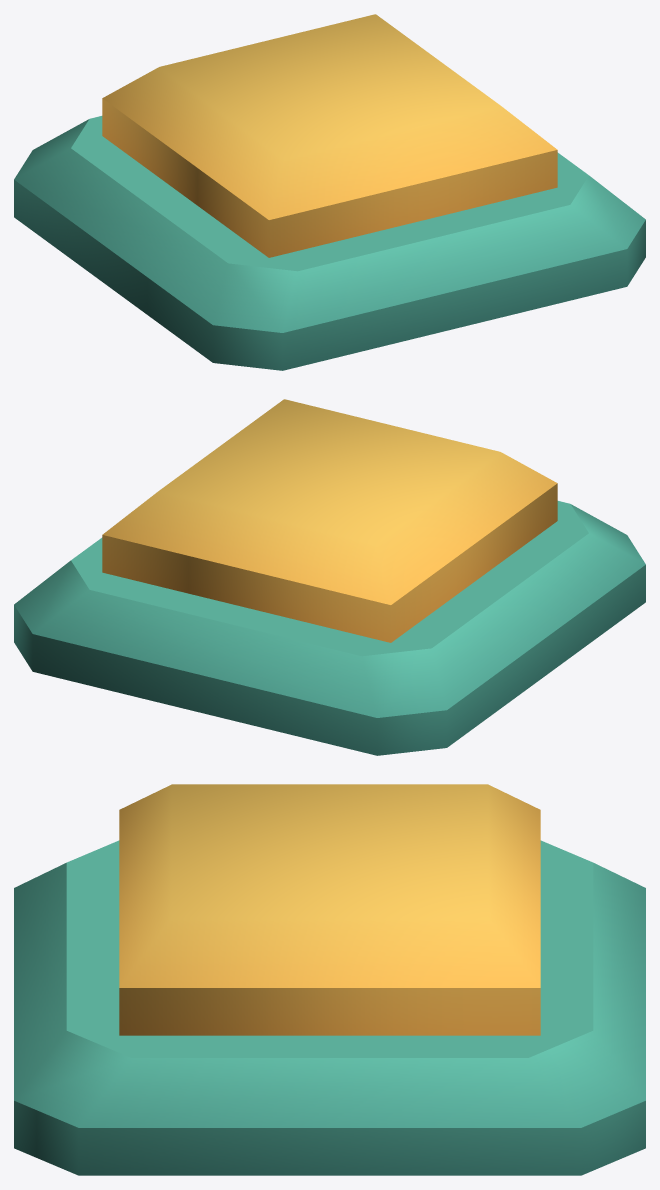
File: button-square.glb
3 renders of one model, top to bottom at view 1: azimuth 30°, elevation 25°; view 2: azimuth 150°, elevation 25°; view 3: azimuth 270°, elevation 25°, orthographic. The views are drawn at different scales.
Visible parts, largest first — view 1: button-square, button; view 2: button-square, button; view 3: button-square, button.
Boxes of the visible parts, x1=… form: button-square: x1=14, y1=116, x2=645, y2=370; button: x1=102, y1=14, x2=557, y2=257; button-square: x1=14, y1=501, x2=645, y2=755; button: x1=102, y1=399, x2=557, y2=642; button-square: x1=14, y1=840, x2=645, y2=1175; button: x1=119, y1=784, x2=540, y2=1035.
Bounding box in the file's own units: 0.6 × 0.2 × 0.6.
